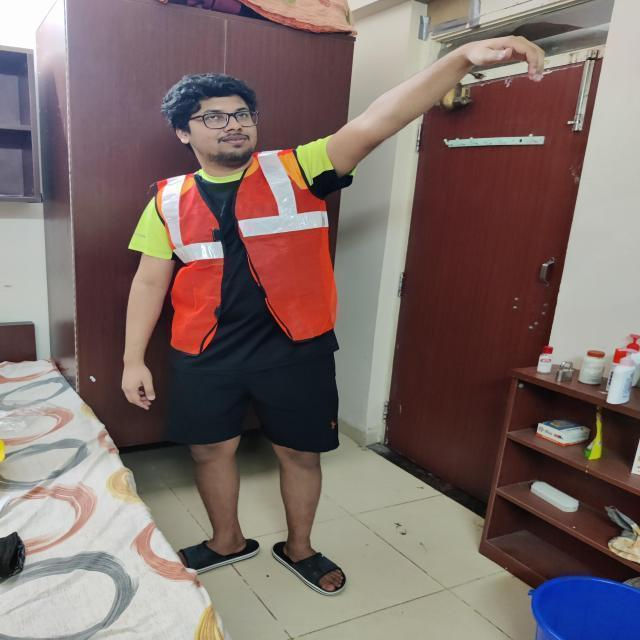no-helmet: (160, 66, 266, 132)
vest: (150, 142, 342, 358)
